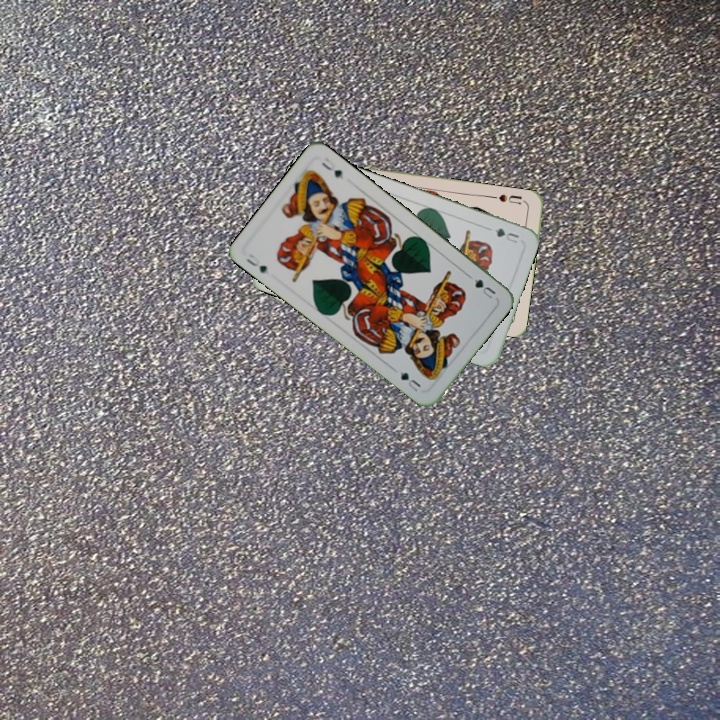GU: (470, 275, 498, 301), (242, 250, 270, 276), (491, 224, 521, 246)
SU: (488, 190, 528, 207)
